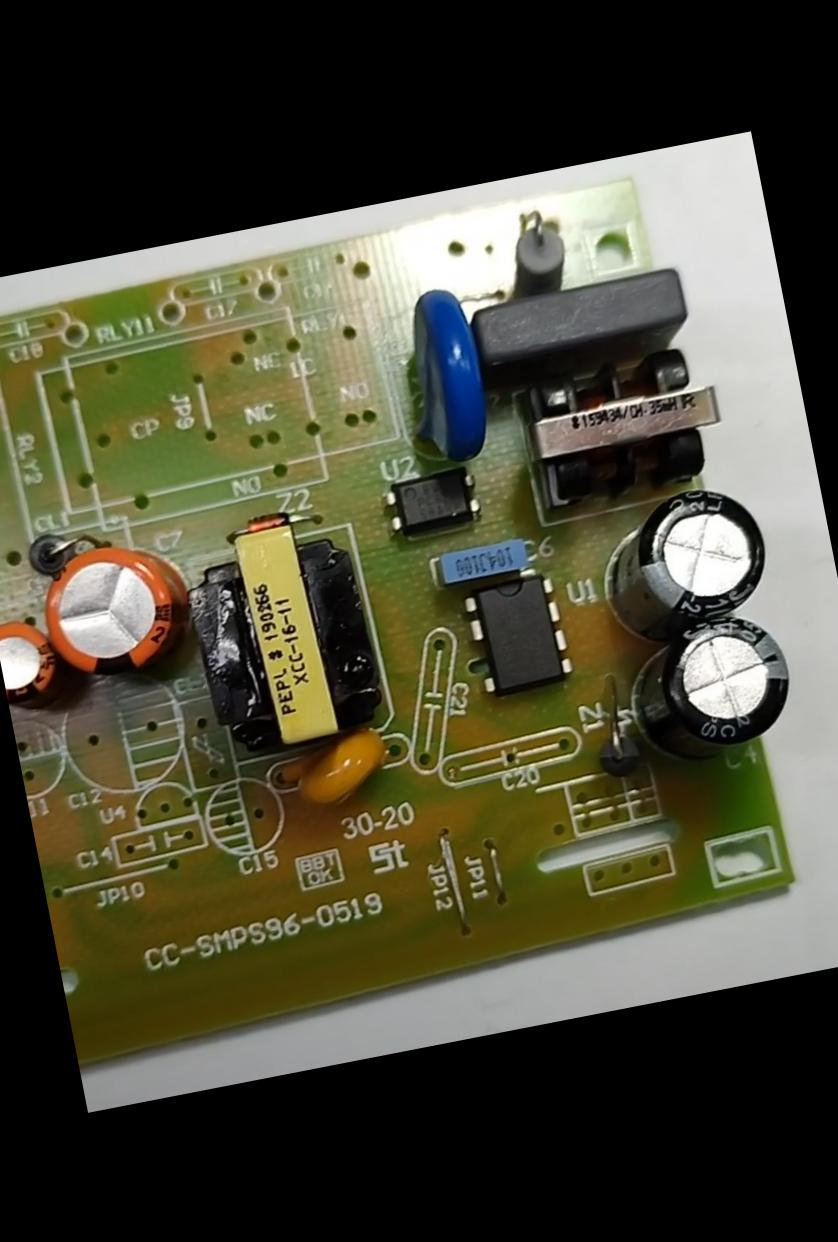Cap1: (29, 510, 211, 701)
Cap2: (0, 599, 77, 715)
Cap3: (579, 466, 785, 655)
Cap4: (604, 593, 812, 772)
MOSFET: (458, 557, 587, 711)
Mov: (386, 270, 512, 480)
Resistor: (484, 194, 592, 300)
Transformer: (171, 493, 409, 772), (505, 327, 745, 526)
